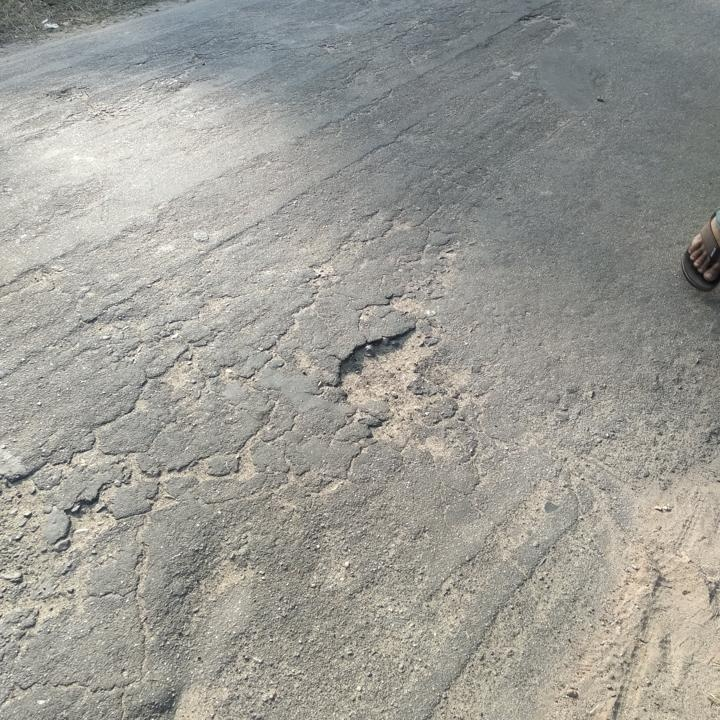pothole: (333, 321, 442, 434), (59, 495, 119, 552)
